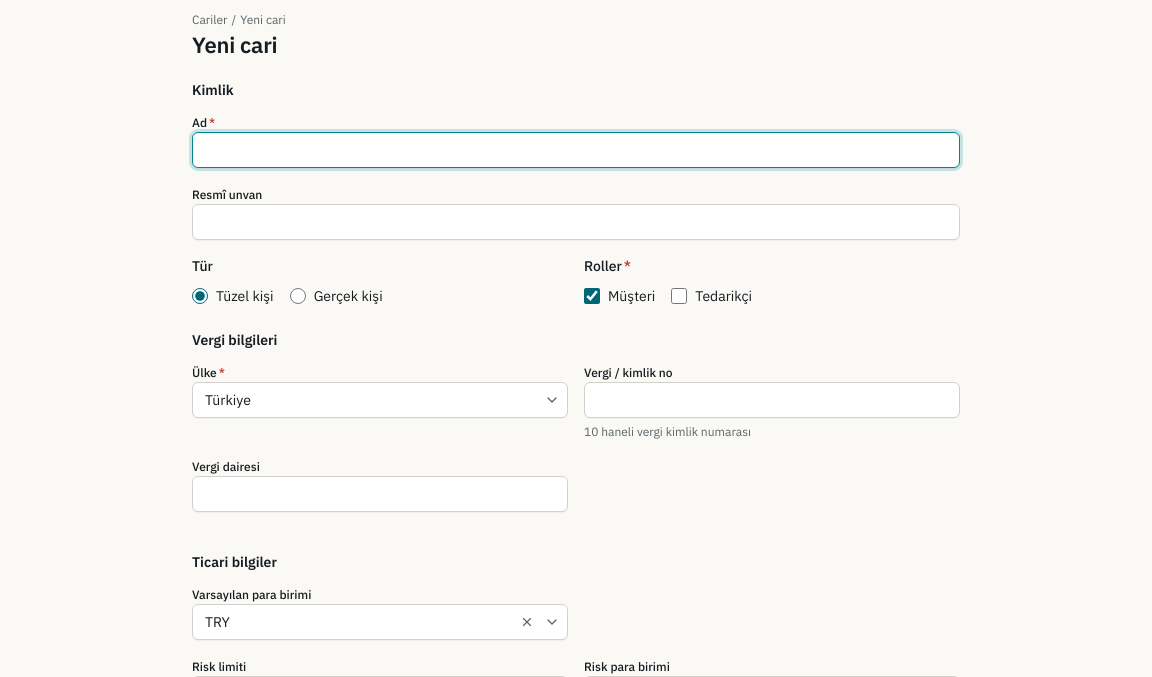
Scenario: party create form › requires a role
Type "X" into the field labelled "Ad*" at (576, 150), box [192,132,960,168]
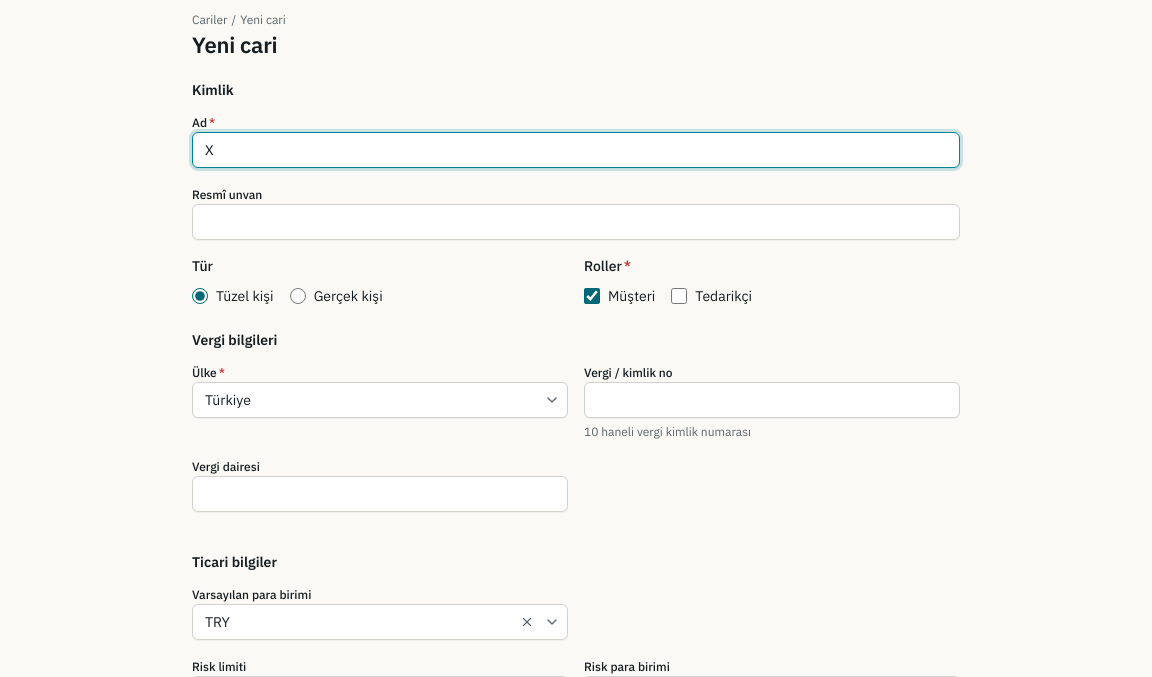
Click the checkbox labelled "Müşteri" at (592, 296), box [584,288,600,304]
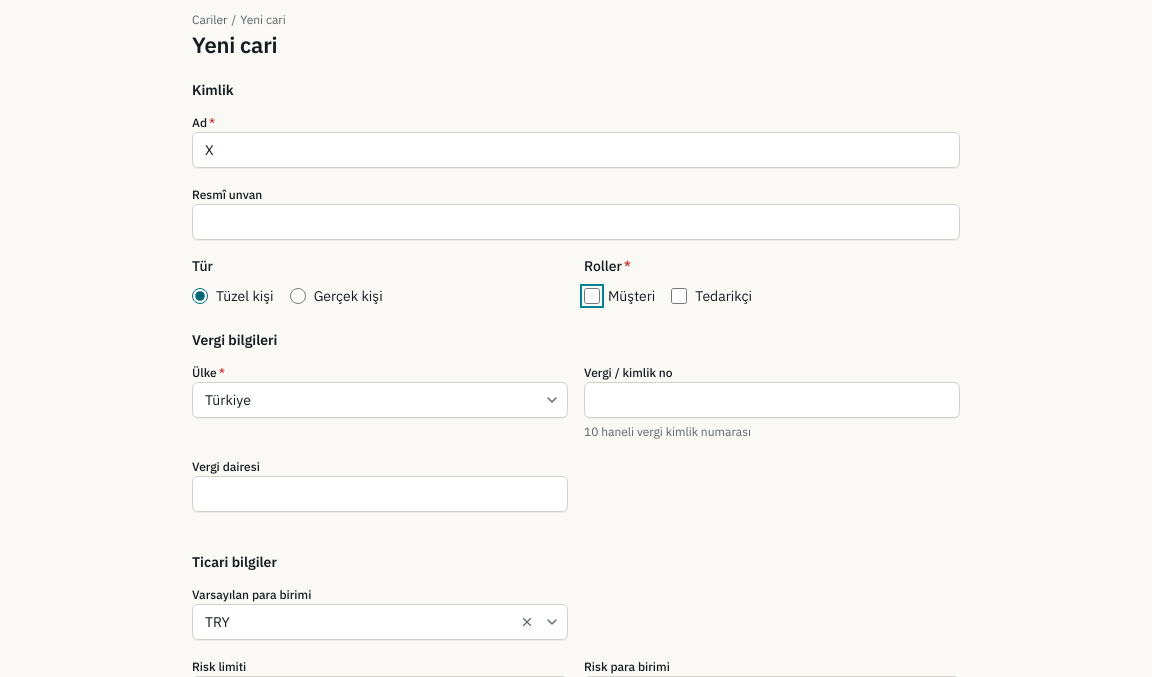
Type keys "{Control>}{Enter}{/Control}"
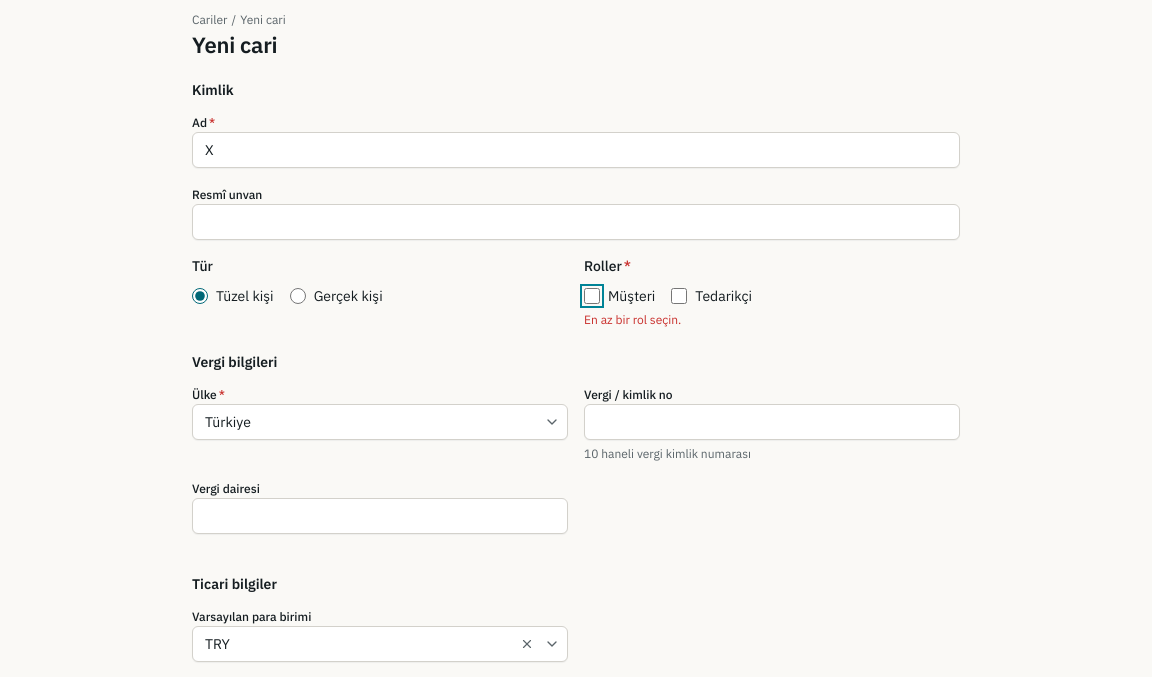
expect the text "En az bir rol seçin." is shown: met, box [584,312,681,327]
